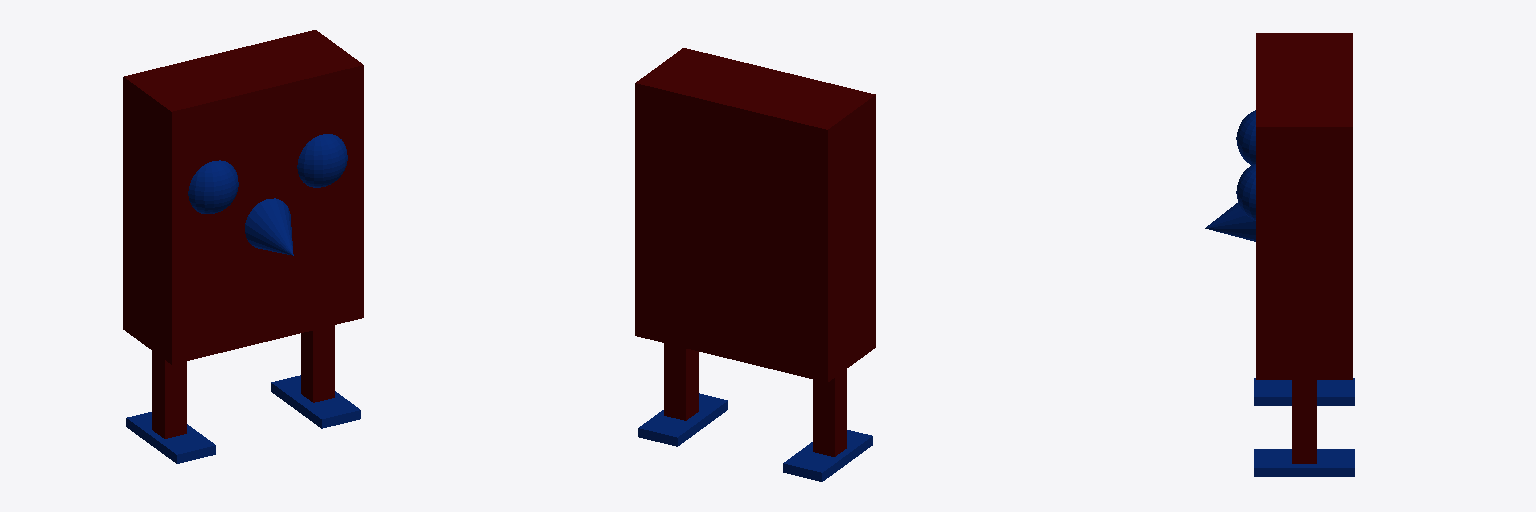
The model's file is pichi.obj.
3 views of the same model, side by side, from view 1: azimuth 30°, elevation 25°; view 2: azimuth 150°, elevation 25°; view 3: azimuth 270°, elevation 25° (orthographic).
Visible parts, largest first — view 1: pCube3, pCube2, pSphere1, pCube1, pCone1; view 2: pCube3, pCube2, pCube1; view 3: pCube3, pCube1, pCube2, pSphere1, pCone1.
Boxes of the visible parts, <box> form: pCube3: <box>123,30,363,364</box>; pCube2: <box>152,325,334,438</box>; pSphere1: <box>188,134,347,213</box>; pCube1: <box>126,375,360,463</box>; pCone1: <box>245,198,293,255</box>; pCube3: <box>635,48,875,382</box>; pCube2: <box>664,343,846,456</box>; pCube1: <box>638,393,872,481</box>; pCube3: <box>1256,33,1352,379</box>; pCube1: <box>1254,378,1354,476</box>; pCube2: <box>1292,380,1316,463</box>; pSphere1: <box>1236,110,1255,220</box>; pCone1: <box>1205,202,1255,241</box>.
Bounding box in the file's own units: 4.12 × 7.21 × 2.79.